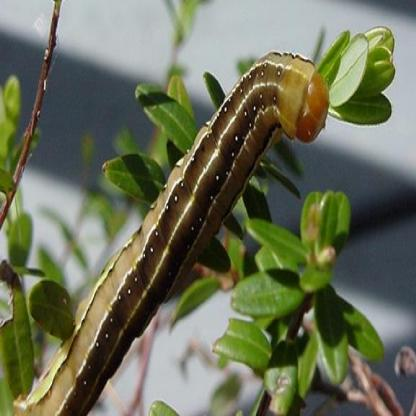armyworm: (0, 16, 355, 414)
